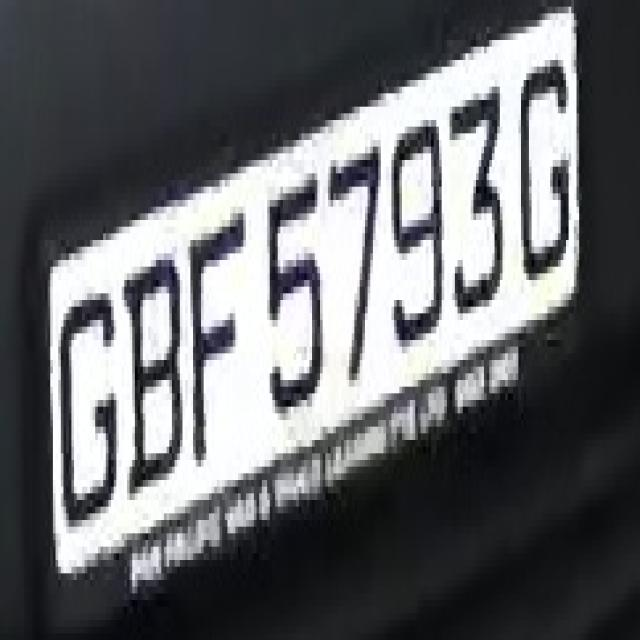3: (447, 80, 505, 347)
5: (259, 166, 325, 426)
7: (325, 134, 389, 414)
9: (384, 100, 449, 347)
B: (124, 240, 185, 500)
F: (185, 206, 246, 466)
G: (58, 280, 127, 540), (513, 53, 571, 287)
